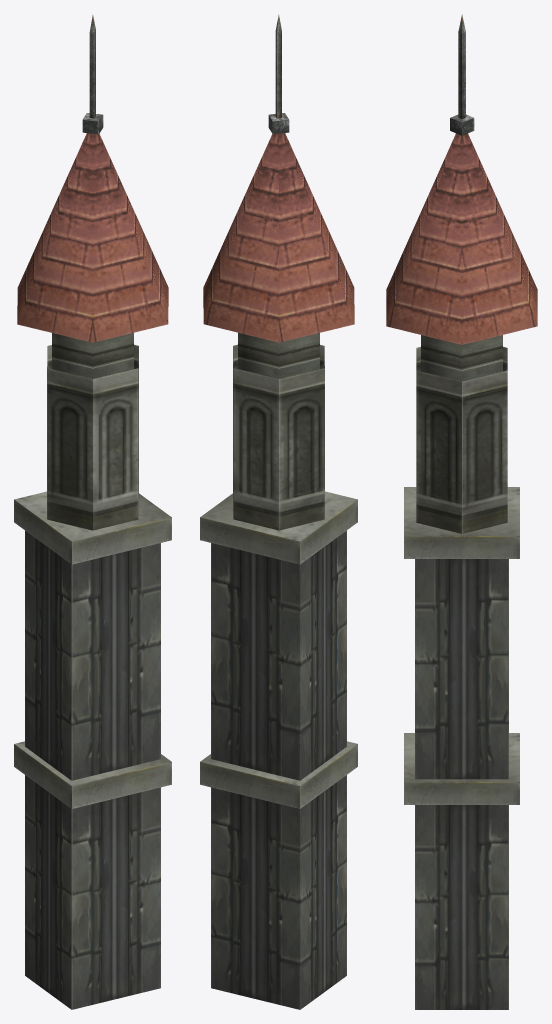
File: SC_guowangchengbao_24.FBX
3 views of the same model, side by side, from view 1: azimuth 30°, elevation 25°; view 2: azimuth 150°, elevation 25°; view 3: azimuth 270°, elevation 25° (orthographic).
Parts seen in each view (by area): view 1: SC_guowangchengbao_24; view 2: SC_guowangchengbao_24; view 3: SC_guowangchengbao_24.
Part boxes in pixels (box(x1,y1,x2,y2)): SC_guowangchengbao_24: box(14, 15, 171, 1009); SC_guowangchengbao_24: box(200, 14, 357, 1009); SC_guowangchengbao_24: box(386, 14, 537, 1009).
Bounding box in the file's own units: 290 × 1772 × 249.
